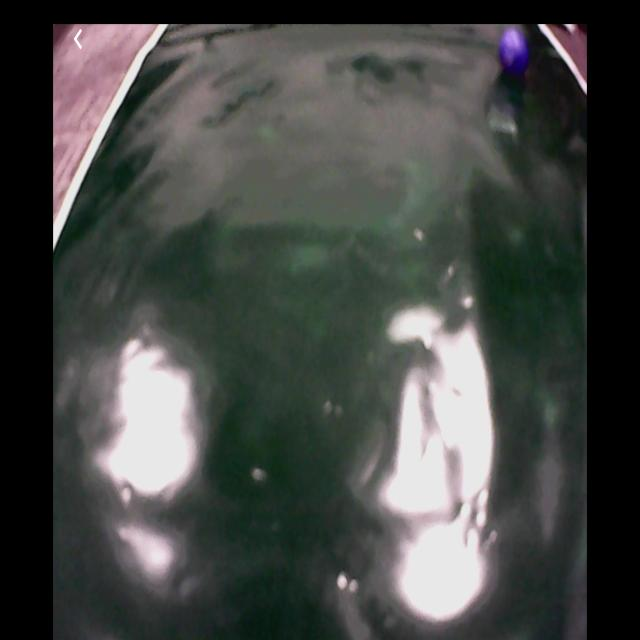ball: (501, 30, 529, 80)
